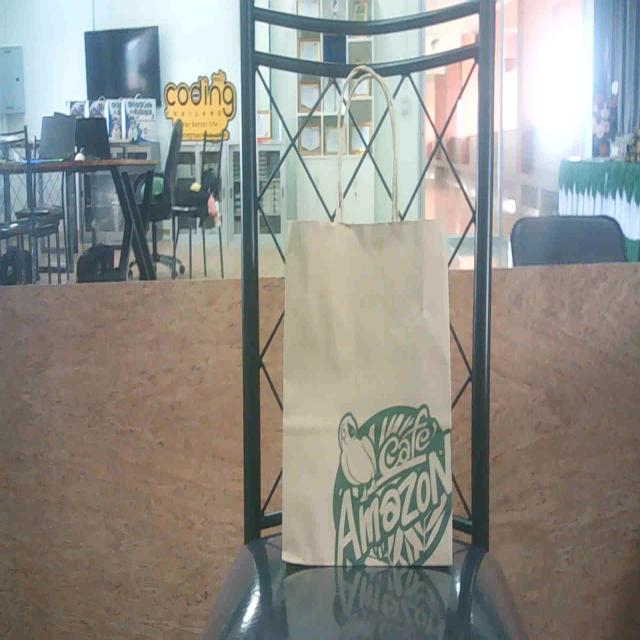bag: (280, 218, 453, 569)
